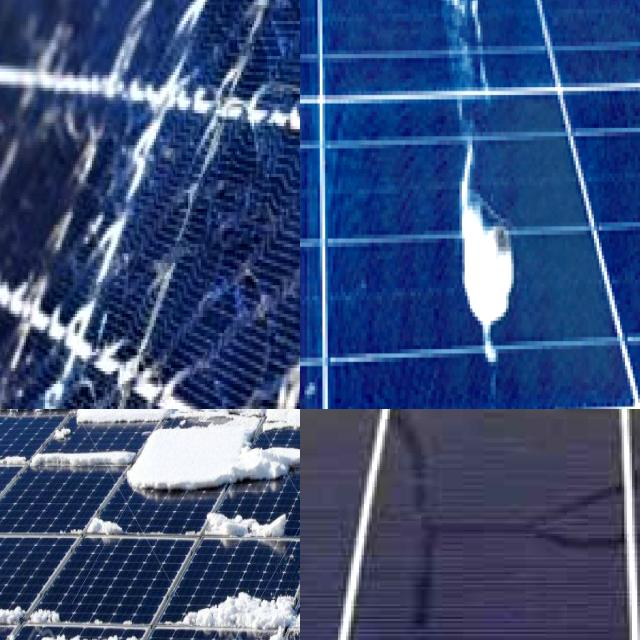bird: (424, 0, 518, 388)
hotspot: (18, 263, 234, 409), (256, 96, 300, 383)
panel: (0, 585, 177, 640), (176, 574, 300, 640), (114, 409, 190, 498), (0, 409, 105, 464), (199, 502, 300, 549), (222, 409, 300, 467), (0, 440, 110, 480), (84, 509, 154, 556), (197, 409, 223, 461)
shadow: (374, 449, 621, 640)
